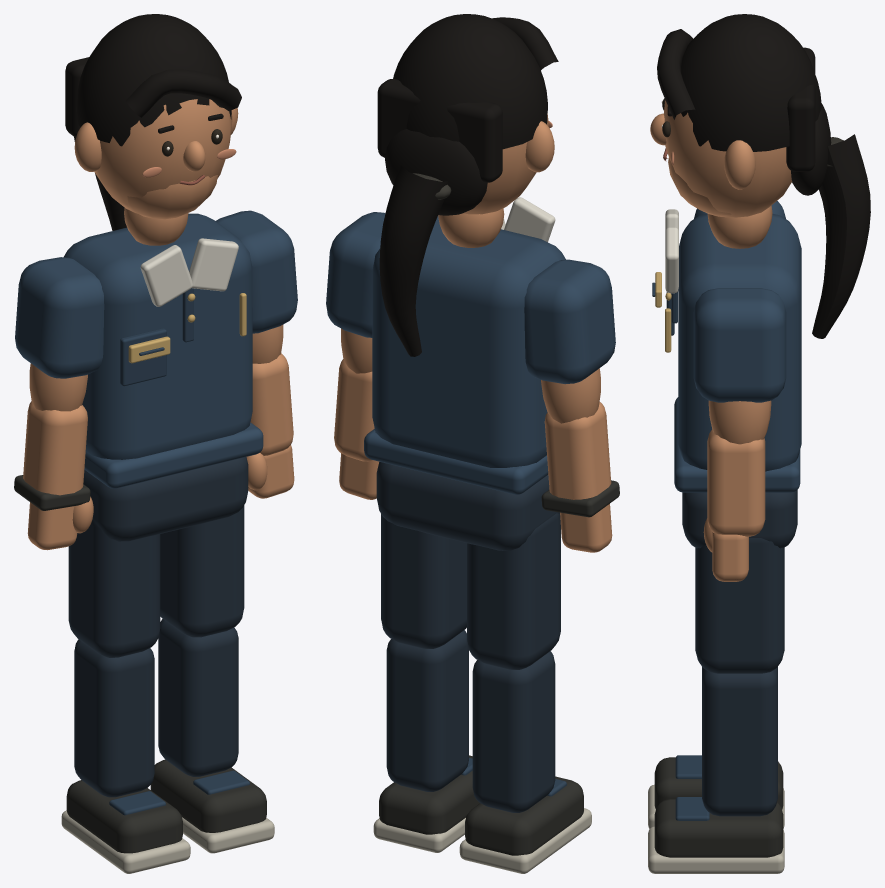
Rendered from manager-female.glb.
3 renders of one model, left to right at view 1: azimuth 30°, elevation 25°; view 2: azimuth 150°, elevation 25°; view 3: azimuth 270°, elevation 25°, orthographic. The views are drawn at different scales.
Parts seen in each view (by area): view 1: Spine_crew_shirt, Head_crew_hair, Head_crew_skin, LeftKnee_crew_trousers, RightKnee_crew_trousers, LeftHip_crew_trousers, LeftShoulder_crew_shirt, RightHip_crew_trousers, Hips_crew_trousers, RightShoulder_crew_shirt, LeftElbow_crew_skin, LeftAnkle_crew_shoes (+16 smaller); view 2: Spine_crew_shirt, Head_crew_hair, LongHair_crew_hair, LeftKnee_crew_trousers, RightKnee_crew_trousers, LeftHip_crew_trousers, Hips_crew_trousers, LeftShoulder_crew_shirt, RightHip_crew_trousers, RightShoulder_crew_shirt, LeftAnkle_crew_shoes, LeftElbow_crew_skin (+12 smaller); view 3: Spine_crew_shirt, Head_crew_hair, RightKnee_crew_trousers, LongHair_crew_hair, RightHip_crew_trousers, RightShoulder_crew_shirt, Head_crew_skin, RightAnkle_crew_shoes, RightElbow_crew_skin, Hips_crew_trousers, RightAnkle_crew_soles, RightShoulder_crew_skin (+7 smaller).
Boxes of the visible parts, left/top/right/bottom form: Spine_crew_shirt: left=64, top=213, right=263, bottom=488; Head_crew_hair: left=65, top=14, right=231, bottom=146; Head_crew_skin: left=74, top=99, right=238, bottom=219; LeftKnee_crew_trousers: left=74, top=639, right=154, bottom=797; RightKnee_crew_trousers: left=158, top=619, right=238, bottom=776; LeftHip_crew_trousers: left=68, top=519, right=160, bottom=657; LeftShoulder_crew_shirt: left=15, top=257, right=104, bottom=378; RightHip_crew_trousers: left=160, top=505, right=244, bottom=637; Hips_crew_trousers: left=83, top=457, right=248, bottom=541; RightShoulder_crew_shirt: left=216, top=210, right=297, bottom=333; LeftElbow_crew_skin: left=23, top=401, right=87, bottom=495; LeftAnkle_crew_shoes: left=66, top=780, right=182, bottom=853; Spine_crew_shirt: left=364, top=215, right=565, bottom=494; Head_crew_hair: left=377, top=14, right=547, bottom=182; LongHair_crew_hair: left=379, top=17, right=558, bottom=356; LeftKnee_crew_trousers: left=472, top=651, right=555, bottom=812; RightKnee_crew_trousers: left=386, top=630, right=468, bottom=791; LeftHip_crew_trousers: left=467, top=513, right=560, bottom=669; Hips_crew_trousers: left=376, top=462, right=559, bottom=550; LeftShoulder_crew_shirt: left=524, top=259, right=615, bottom=384; RightHip_crew_trousers: left=381, top=514, right=466, bottom=648; RightShoulder_crew_shirt: left=326, top=212, right=385, bottom=337; LeftAnkle_crew_shoes: left=465, top=776, right=583, bottom=855; LeftElbow_crew_skin: left=544, top=402, right=611, bottom=499; Spine_crew_shirt: left=674, top=213, right=801, bottom=492; Head_crew_hair: left=667, top=14, right=821, bottom=171; RightKnee_crew_trousers: left=702, top=667, right=777, bottom=816; LongHair_crew_hair: left=657, top=29, right=870, bottom=338; RightHip_crew_trousers: left=695, top=538, right=784, bottom=673; RightShoulder_crew_shirt: left=693, top=288, right=786, bottom=402; Head_crew_skin: left=650, top=100, right=792, bottom=217; RightAnkle_crew_shoes: left=654, top=799, right=783, bottom=857; RightElbow_crew_skin: left=707, top=429, right=765, bottom=536; Hips_crew_trousers: left=682, top=490, right=797, bottom=548; RightAnkle_crew_soles: left=648, top=826, right=784, bottom=873; RightShoulder_crew_skin: left=708, top=400, right=771, bottom=444.
Size of the model in its own units: 0.5809 by 1.72 by 0.4243.
